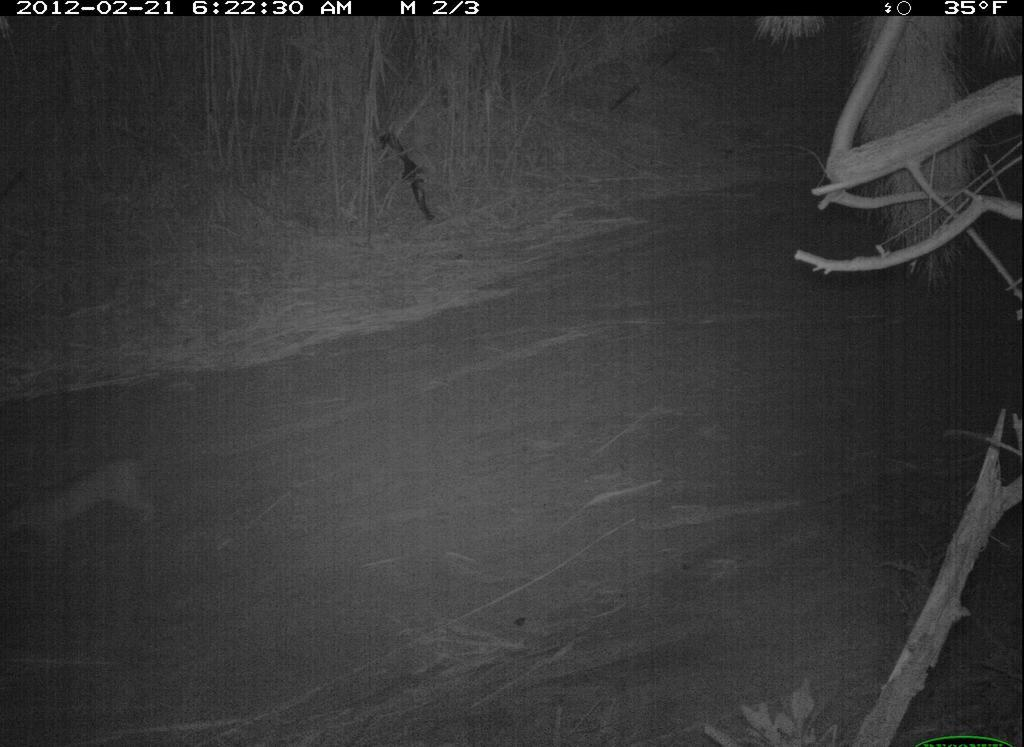bobcat: (6, 442, 172, 570)
